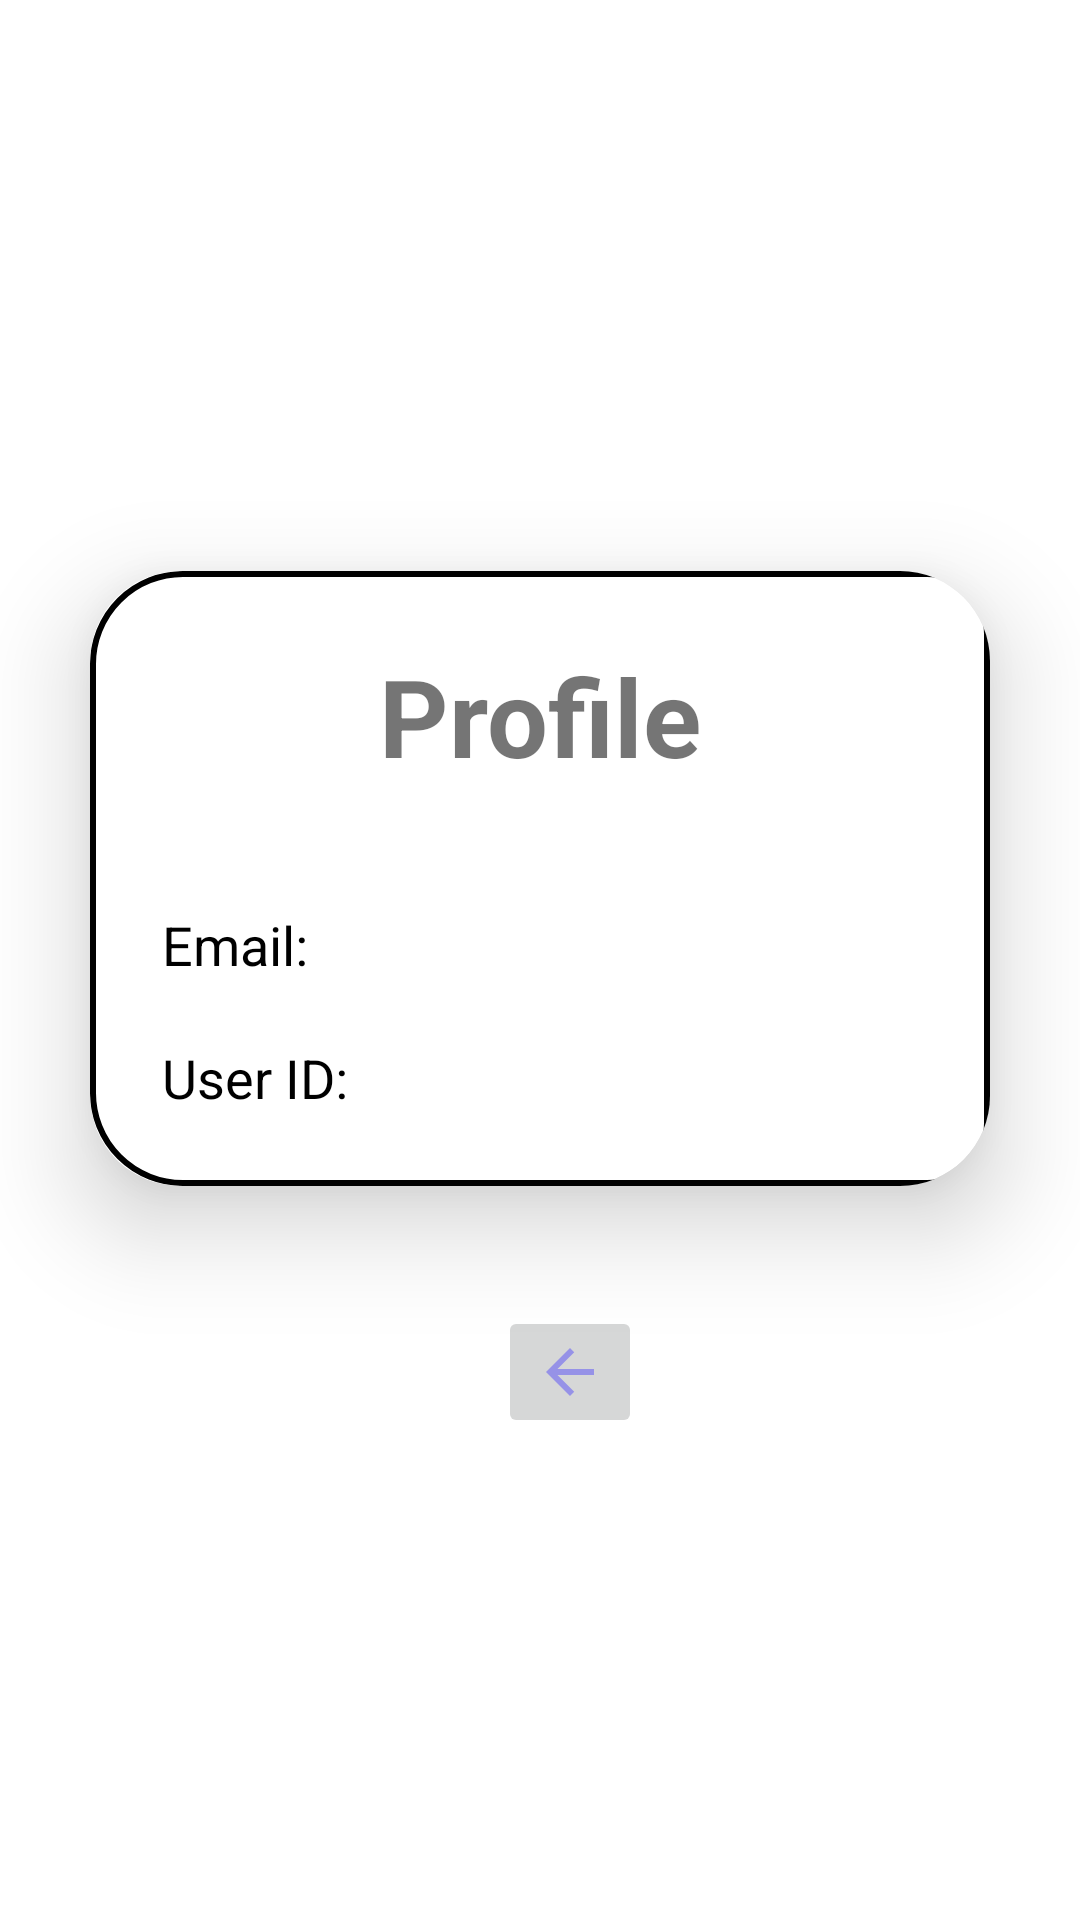

Screen size 1080*1920. Icon name, then its center in pixels as [x,y]:
Back: [570,1372]
